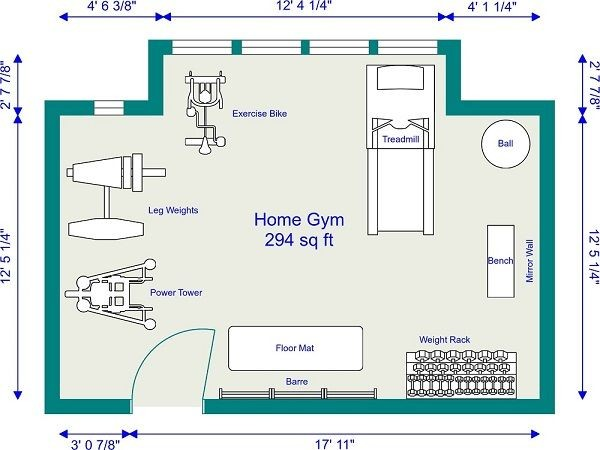room: (54, 51, 558, 422)
wall: (537, 113, 560, 403), (42, 101, 63, 413), (204, 398, 554, 416), (446, 95, 550, 119), (52, 395, 133, 417), (142, 39, 165, 113), (442, 39, 469, 98)
window: (310, 37, 369, 58), (172, 37, 231, 56), (380, 37, 439, 56), (245, 39, 303, 55), (87, 100, 130, 117)
